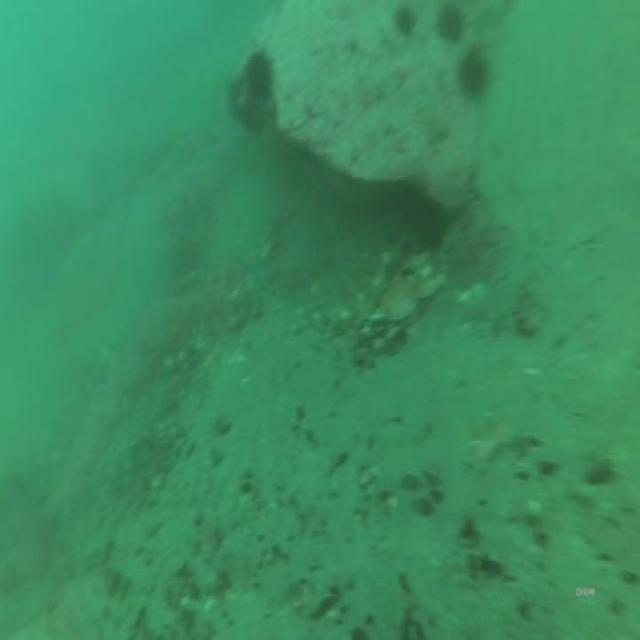echinus: (247, 55, 273, 101), (439, 6, 463, 41), (462, 54, 484, 92), (397, 9, 415, 35)
